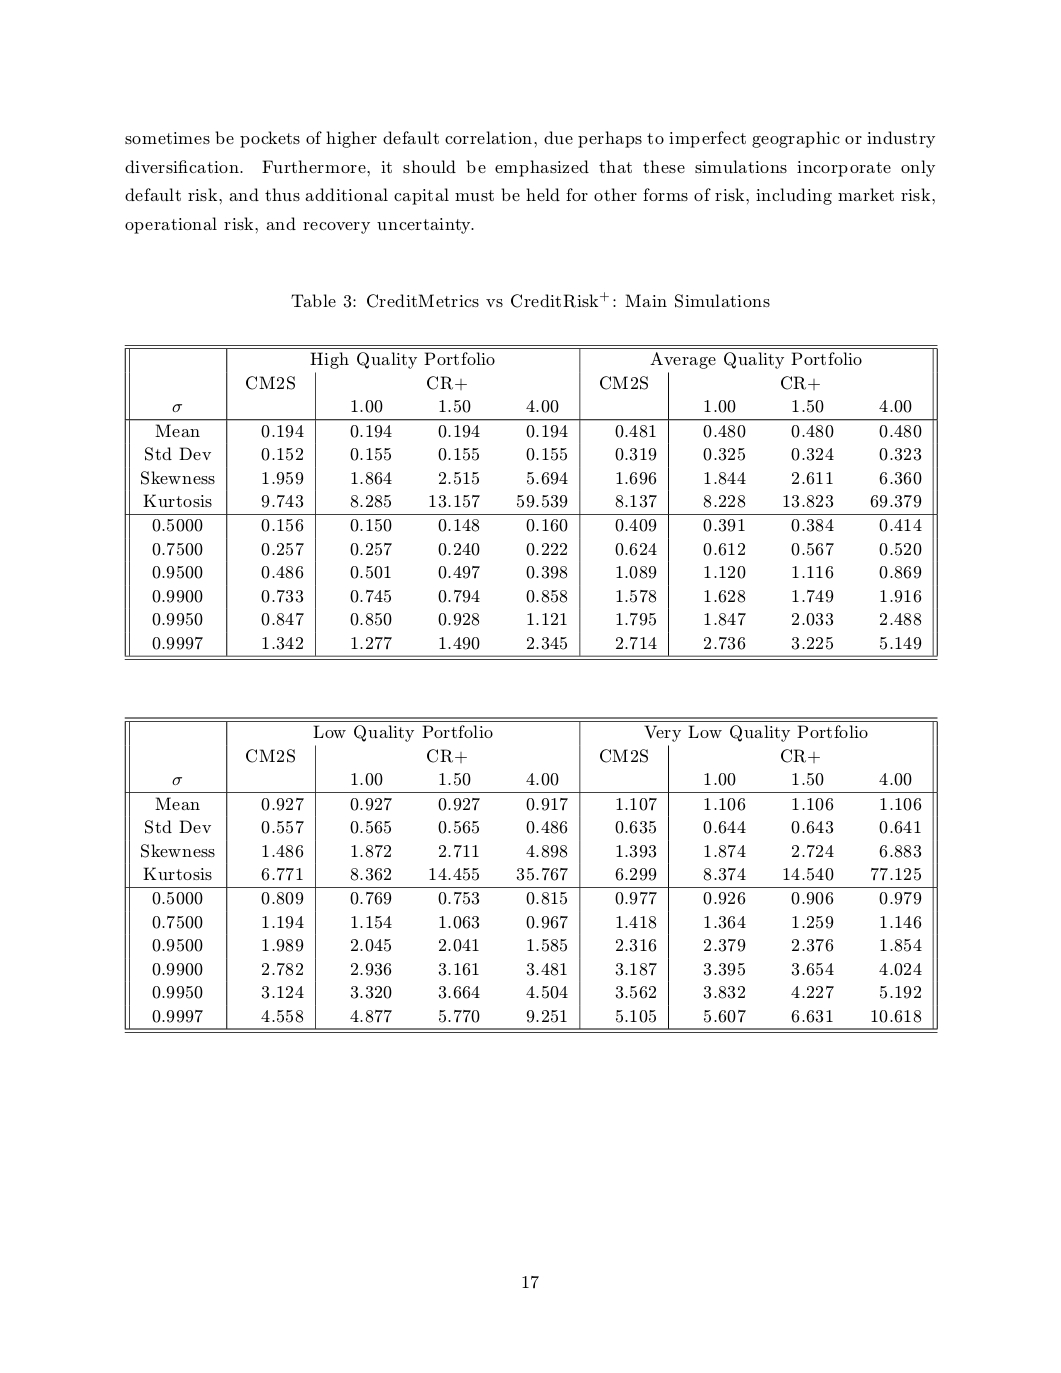Table: (124, 715, 937, 1031), (124, 344, 937, 658)
